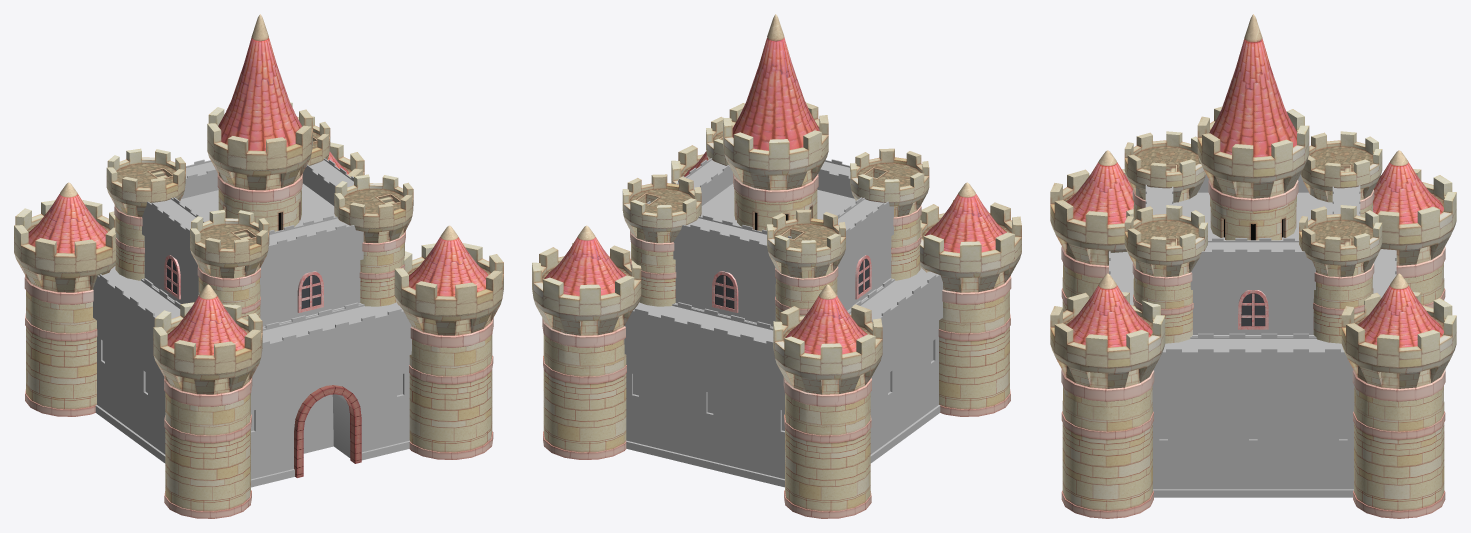
File: sb_obj_outdoor024_PrincessCastle01_set01.fbx
3 renders of one model, left to right at view 1: azimuth 30°, elevation 25°; view 2: azimuth 150°, elevation 25°; view 3: azimuth 270°, elevation 25°, orthographic. The views are drawn at different scales.
Visible parts, largest first — view 1: sb_obj_outdoor024_PrincessCastle01_set01; view 2: sb_obj_outdoor024_PrincessCastle01_set01; view 3: sb_obj_outdoor024_PrincessCastle01_set01.
Boxes of the visible parts, x1,y1,x2,y2 form: sb_obj_outdoor024_PrincessCastle01_set01: (14, 14, 503, 518); sb_obj_outdoor024_PrincessCastle01_set01: (532, 14, 1021, 518); sb_obj_outdoor024_PrincessCastle01_set01: (1050, 14, 1456, 518).
Bounding box in the file's own units: 13.95 × 16.07 × 13.95.
